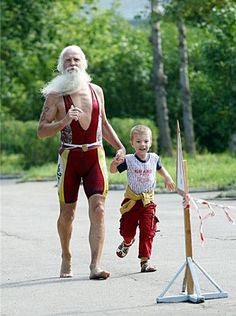Person: (37, 45, 126, 280), (109, 124, 175, 272)
